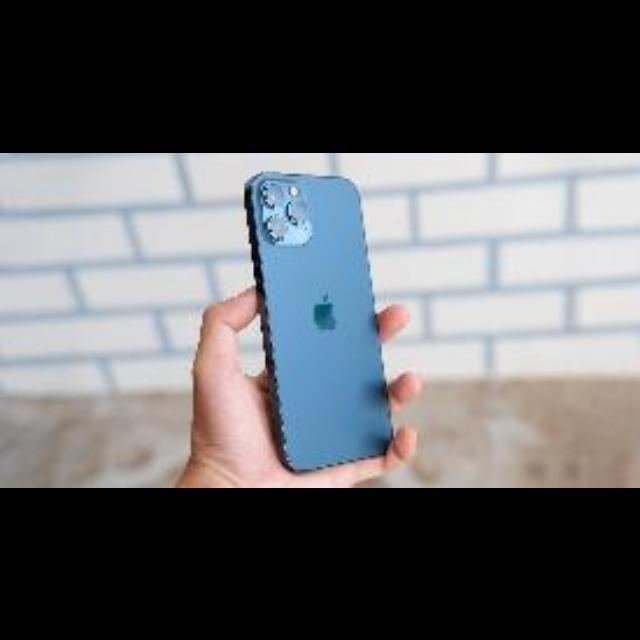phone: (208, 156, 464, 488)
